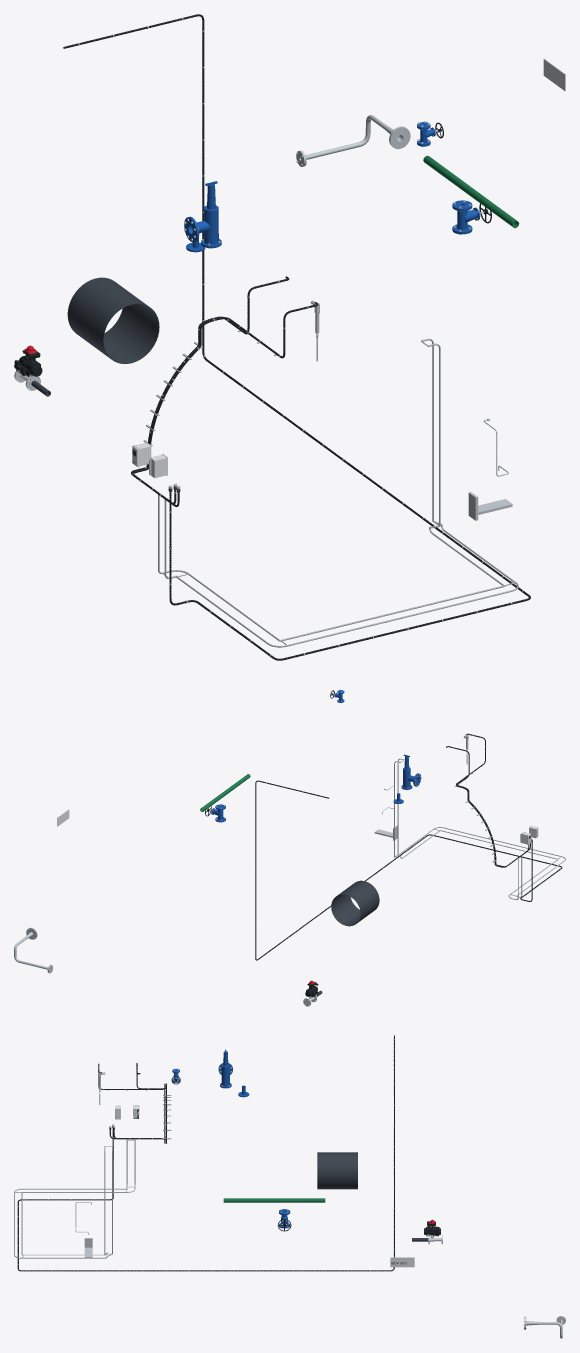
The picture shows the model from 3 angles, top to bottom: view 1: azimuth 30°, elevation 25°; view 2: azimuth 150°, elevation 25°; view 3: azimuth 270°, elevation 25°; orthographic projection. The views are drawn at different scales.
Visible parts, largest first — view 1: flue_spacer / dark, mod_direct_drive_cable / black, cables / zinc, safety_1 / blue, fv_to_trap_gap / steel, wiring_low_level_1 / black, pump_delivery / green, bcv7432 / bcv7432_0.npz, wiring_high_level / black; view 2: flue_spacer / dark, mod_direct_drive_cable / black, cables / zinc; view 3: flue_spacer / dark, cables / zinc, mod_direct_drive_cable / black, pump_delivery / green.
Boxes of the visible parts, left/top/right/bottom form: flue_spacer / dark: left=67, top=277, right=159, bottom=363; mod_direct_drive_cable / black: left=63, top=14, right=530, bottom=660; cables / zinc: left=158, top=338, right=518, bottom=647; safety_1 / blue: left=184, top=181, right=221, bottom=248; fv_to_trap_gap / steel: left=296, top=115, right=410, bottom=166; wiring_low_level_1 / black: left=133, top=302, right=318, bottom=506; pump_delivery / green: left=423, top=155, right=519, bottom=228; bcv7432 / bcv7432_0.npz: left=14, top=345, right=42, bottom=390; wiring_high_level / black: left=131, top=276, right=289, bottom=504; flue_spacer / dark: left=331, top=880, right=379, bottom=926; mod_direct_drive_cable / black: left=255, top=780, right=562, bottom=960; cables / zinc: left=394, top=758, right=565, bottom=900; flue_spacer / dark: left=317, top=1152, right=357, bottom=1189; cables / zinc: left=14, top=1139, right=135, bottom=1258; mod_direct_drive_cable / black: left=17, top=1035, right=394, bottom=1271; pump_delivery / green: left=223, top=1198, right=325, bottom=1202.
Bounding box in the file's own units: 5.3 × 3 × 6.78.
